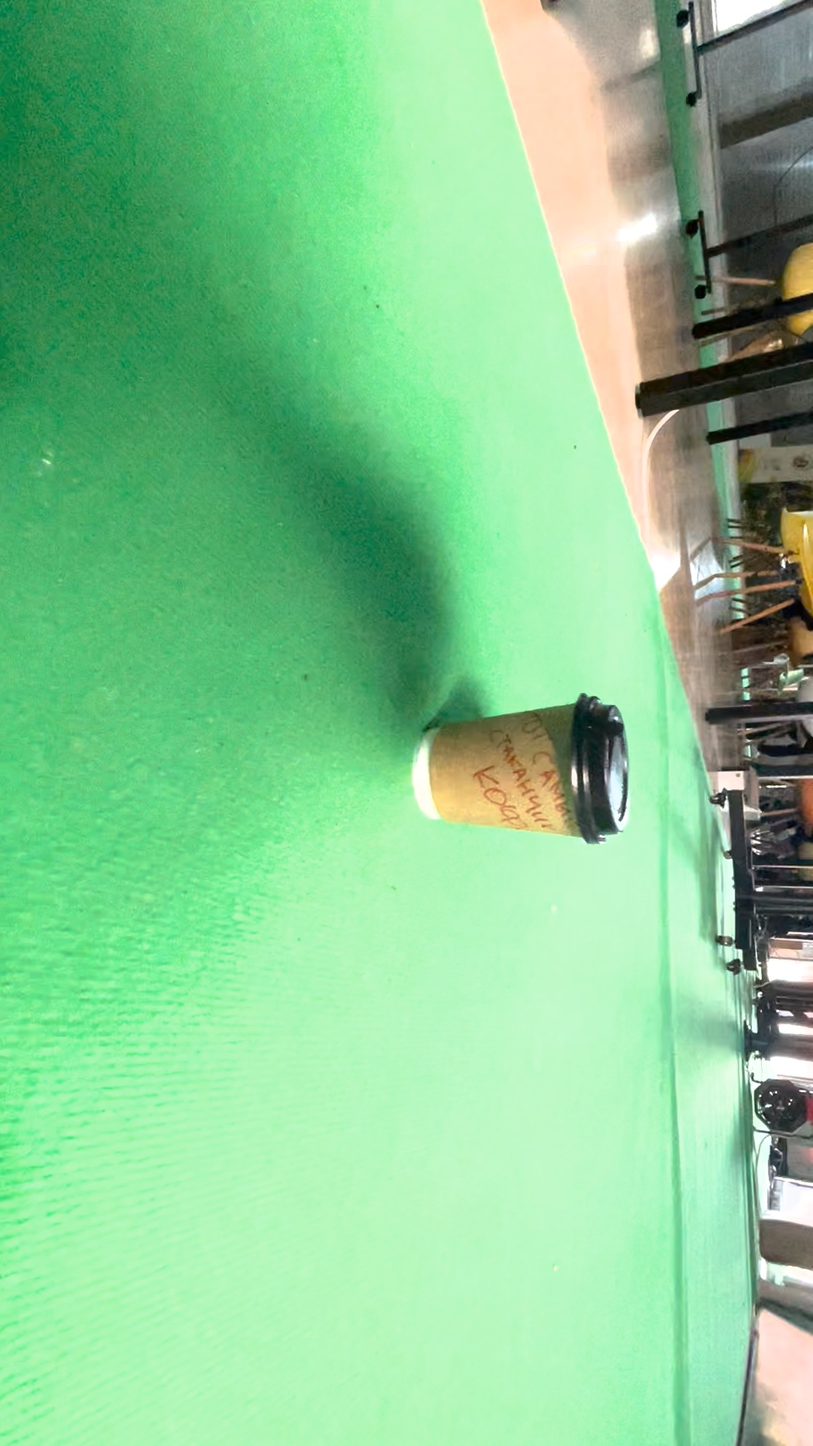cup: (445, 629, 528, 1034)
